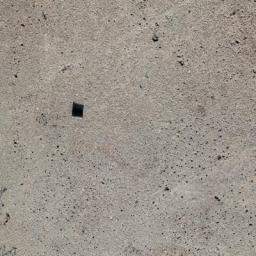FOD: (68, 99, 89, 126)
